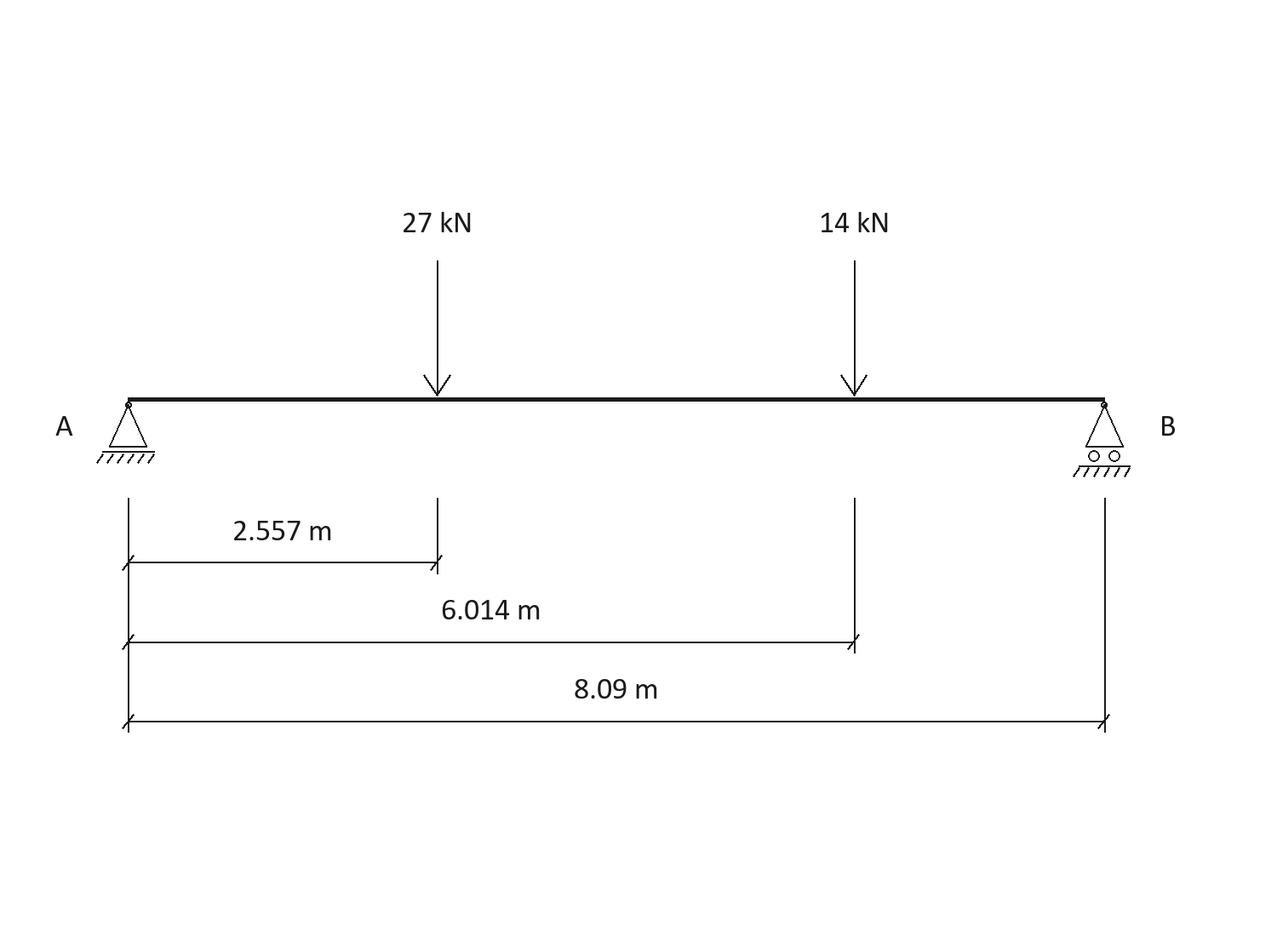pin_support: (96, 402, 155, 464)
point_load: (423, 260, 451, 397), (840, 260, 868, 397)
roller_support: (1073, 402, 1131, 477)
